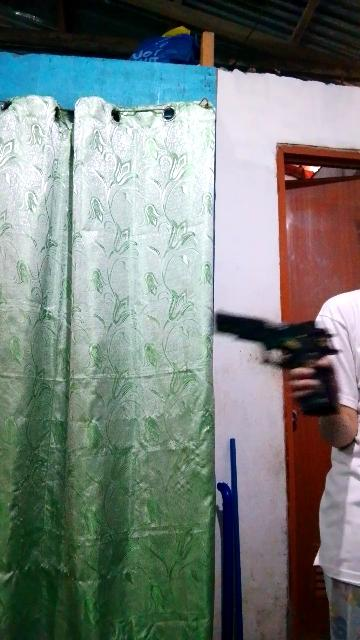pistol: (194, 295, 346, 415)
